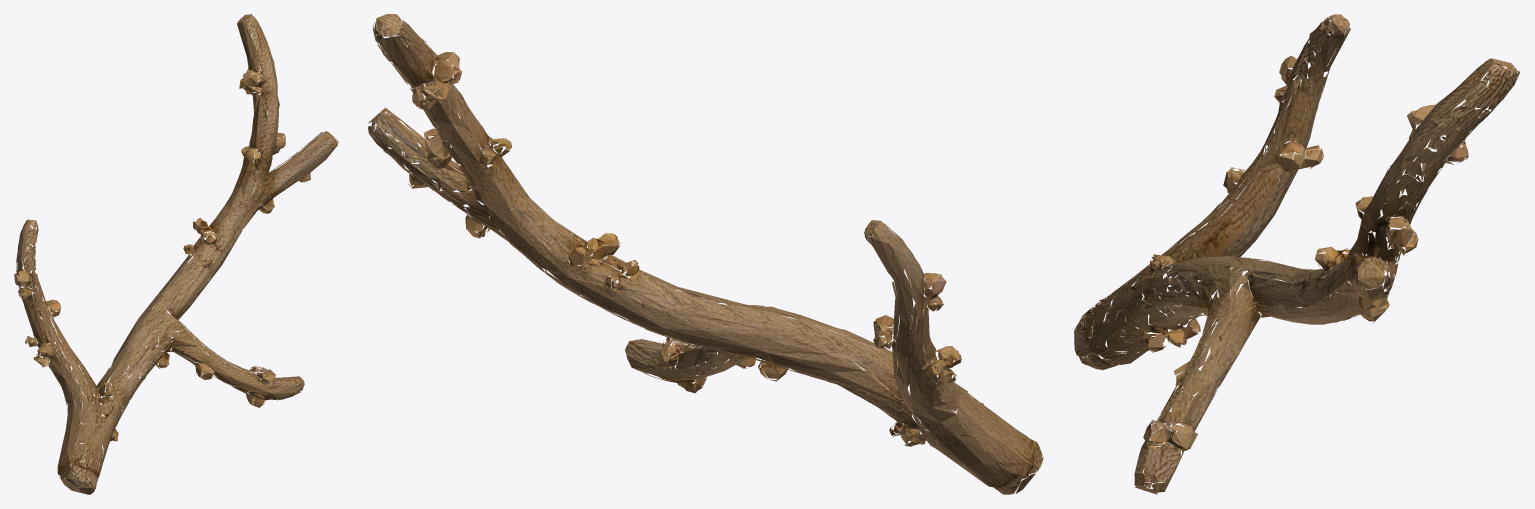
File: ivy_stem.glb
3 renders of one model, left to right at view 1: azimuth 30°, elevation 25°; view 2: azimuth 150°, elevation 25°; view 3: azimuth 270°, elevation 25°, orthographic. The views are drawn at different scales.
Visible parts, largest first — view 1: textured.obj; view 2: textured.obj; view 3: textured.obj.
Part boxes in pixels (x1=…): textured.obj: x1=14, y1=14, x2=338, y2=494; textured.obj: x1=368, y1=14, x2=1043, y2=494; textured.obj: x1=1074, y1=14, x2=1520, y2=494.
Bounding box in the file's own units: 0.3005 × 0.263 × 0.1978.
Materials: 1 (1 with a texture image).
